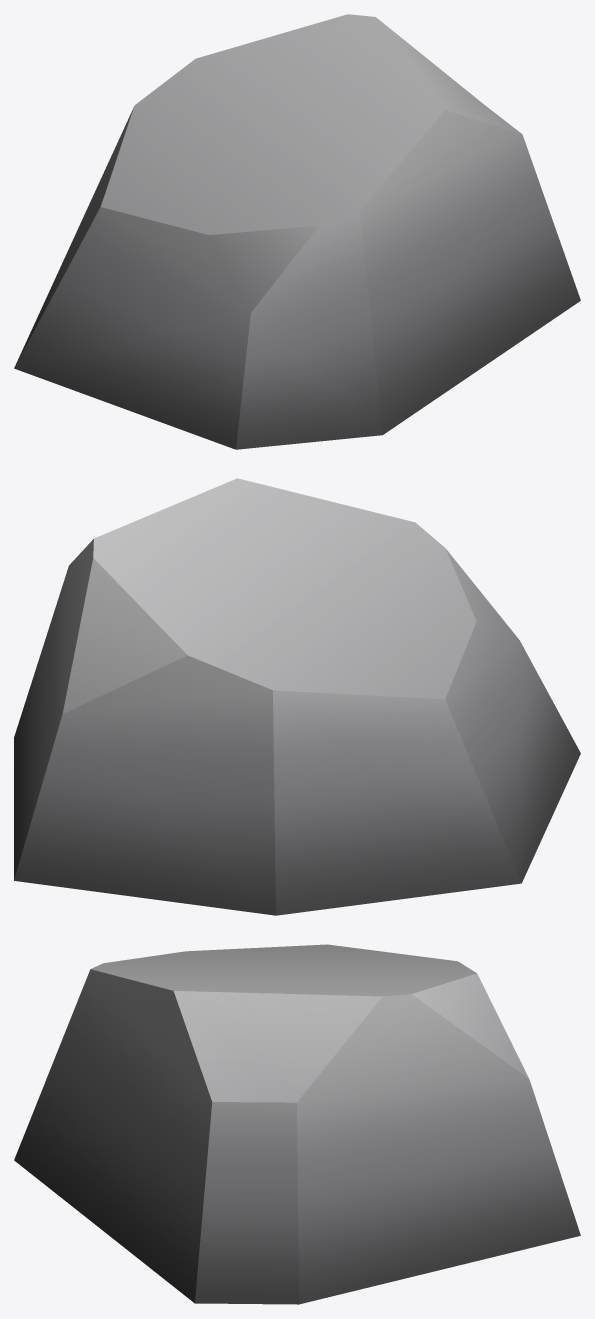
Rendered from RockSml-03.FBX.
3 views of the same model, one above another, from view 1: azimuth 30°, elevation 25°; view 2: azimuth 150°, elevation 25°; view 3: azimuth 270°, elevation 25° (orthographic). The views are drawn at different scales.
Parts seen in each view (by area): view 1: RockSml-03; view 2: RockSml-03; view 3: RockSml-03.
Boxes of the visible parts, x1,y1,x2,y2 form: RockSml-03: [14, 14, 580, 449]; RockSml-03: [14, 478, 580, 915]; RockSml-03: [14, 944, 580, 1304].
Size of the model in its own units: 73.77 by 34.67 by 71.19.
1 material, 1 textured.
